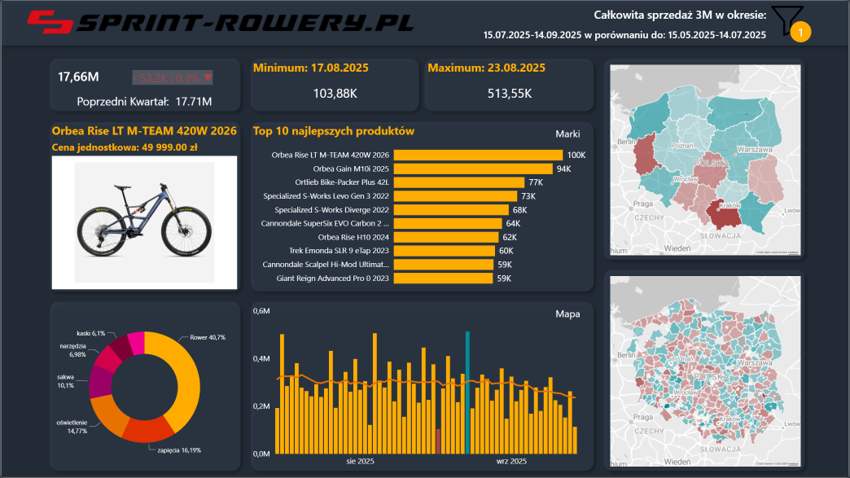

Layout of this report page (visuals, bound fields, positions):
{"tool":"powerbi","page":{"name":"Sales","canvas":[1600,900],"ordinal":0},"visuals":[{"type":"actionButton","title":"ShowButton","box":[1450,3,70,70],"z":0,"group":"g1"},{"type":"card","title":"Całkowita sprzedaż poprzedni okres","fields":{"Values":["_mesures.selectedLabelPast"]},"box":[90,171,360,40],"z":0,"group":"g2"},{"type":"azureMap","fields":{"Category":["dim_address.Location.powiat"]},"box":[1145,515,370,370],"z":0},{"type":"shape","title":"FilterCount","box":[1490,38,40,40],"z":1000,"group":"g1"},{"type":"cardVisual","fields":{"Data":["_mesures.selectedLimitDate"]},"box":[90,111,360,60],"z":1000,"group":"g2"},{"type":"lineStackedColumnComboChart","fields":{"Category":["dim_date.Date"],"Y":["_mesures.selectedLimitDate"],"Y2":["_mesures.selectedMA_limitDate"]},"box":[470,570,650,320],"z":1000},{"type":"actionButton","title":"mapButton","box":[1020,570,100,40],"z":3000},{"type":"donutChart","fields":{"Category":["dim_products.Product.Category","dim_products.Product.Subcategory","dim_products.Product.Model"],"Y":["_mesures.selectedLimitDate"]},"box":[90,570,360,320],"z":5000},{"type":"azureMap","fields":{"Category":["dim_address.Location.wojewodztwo"]},"box":[1145,116,370,370],"z":6000},{"type":"barChart","title":"Top 10 najlepszych marek","fields":{"Category":["dim_products.Brand"],"Y":["_mesures.selectedLimitDate"]},"box":[470,230,650,320],"z":7000},{"type":"actionButton","title":"productButton","box":[1020,230,100,40],"z":10000},{"type":"cardVisual","fields":{"Data":["_Mesures.bestProduct"]},"box":[90,230,360,320],"z":11000},{"type":"card","fields":{"Values":["_mesures.selectedLimitDate_min"]},"box":[470,111,320,100],"z":12000},{"type":"card","fields":{"Values":["_mesures.selectedLimitDate_max"]},"box":[800,111,320,100],"z":13000},{"type":"cardVisual","fields":{"Data":["_mesures.selectedTitle","_mesures.dateRangeTitle"]},"box":[850,3,600,80],"z":14000},{"type":"group","id":"g1","title":"FilterButton","box":[1450,3,80,75],"z":15000},{"type":"group","id":"g2","title":"KPI","box":[90,111,360,100],"z":17000}]}

Visuals, with their boxes in screenshot pixels (x1, y1, x2, y2), scaled from the page's 1600x900 canvas onto the 850x478 screenshot:
"ShowButton" actionButton: (x1=770, y1=2, x2=808, y2=39)
"Całkowita sprzedaż poprzedni okres" card: (x1=48, y1=91, x2=239, y2=112)
azureMap - dim_address.Location.powiat: (x1=608, y1=274, x2=805, y2=470)
"FilterCount" shape: (x1=792, y1=20, x2=813, y2=41)
cardVisual - _mesures.selectedLimitDate: (x1=48, y1=59, x2=239, y2=91)
lineStackedColumnComboChart - dim_date.Date x _mesures.selectedLimitDate: (x1=250, y1=303, x2=595, y2=473)
"mapButton" actionButton: (x1=542, y1=303, x2=595, y2=324)
donutChart - dim_products.Product.Category x dim_products.Product.Subcategory: (x1=48, y1=303, x2=239, y2=473)
azureMap - dim_address.Location.wojewodztwo: (x1=608, y1=62, x2=805, y2=258)
"Top 10 najlepszych marek" barChart: (x1=250, y1=122, x2=595, y2=292)
"productButton" actionButton: (x1=542, y1=122, x2=595, y2=143)
cardVisual - _Mesures.bestProduct: (x1=48, y1=122, x2=239, y2=292)
card - _mesures.selectedLimitDate_min: (x1=250, y1=59, x2=420, y2=112)
card - _mesures.selectedLimitDate_max: (x1=425, y1=59, x2=595, y2=112)
cardVisual - _mesures.selectedTitle x _mesures.dateRangeTitle: (x1=452, y1=2, x2=770, y2=44)
"FilterButton" group: (x1=770, y1=2, x2=813, y2=41)
"KPI" group: (x1=48, y1=59, x2=239, y2=112)
